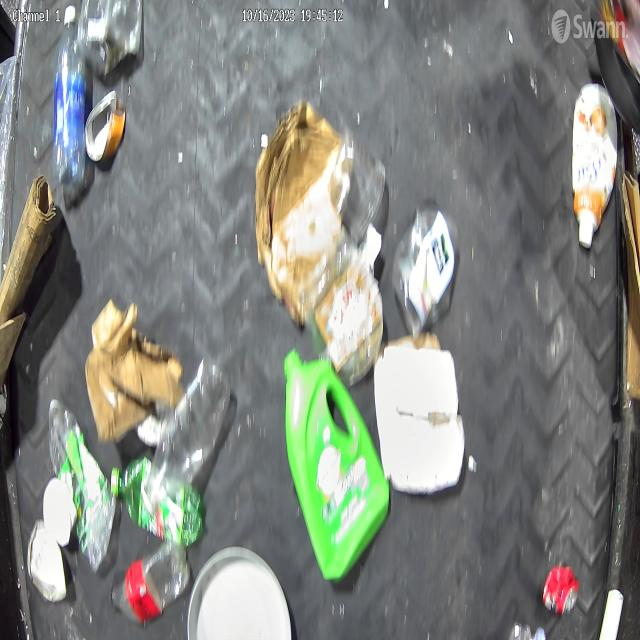can: (28, 517, 68, 603), (85, 89, 126, 164), (542, 566, 580, 617)
non_white_jug: (282, 346, 390, 583)
plastic_bottle: (138, 355, 231, 516), (48, 397, 118, 571), (110, 539, 190, 623), (54, 4, 86, 184)
